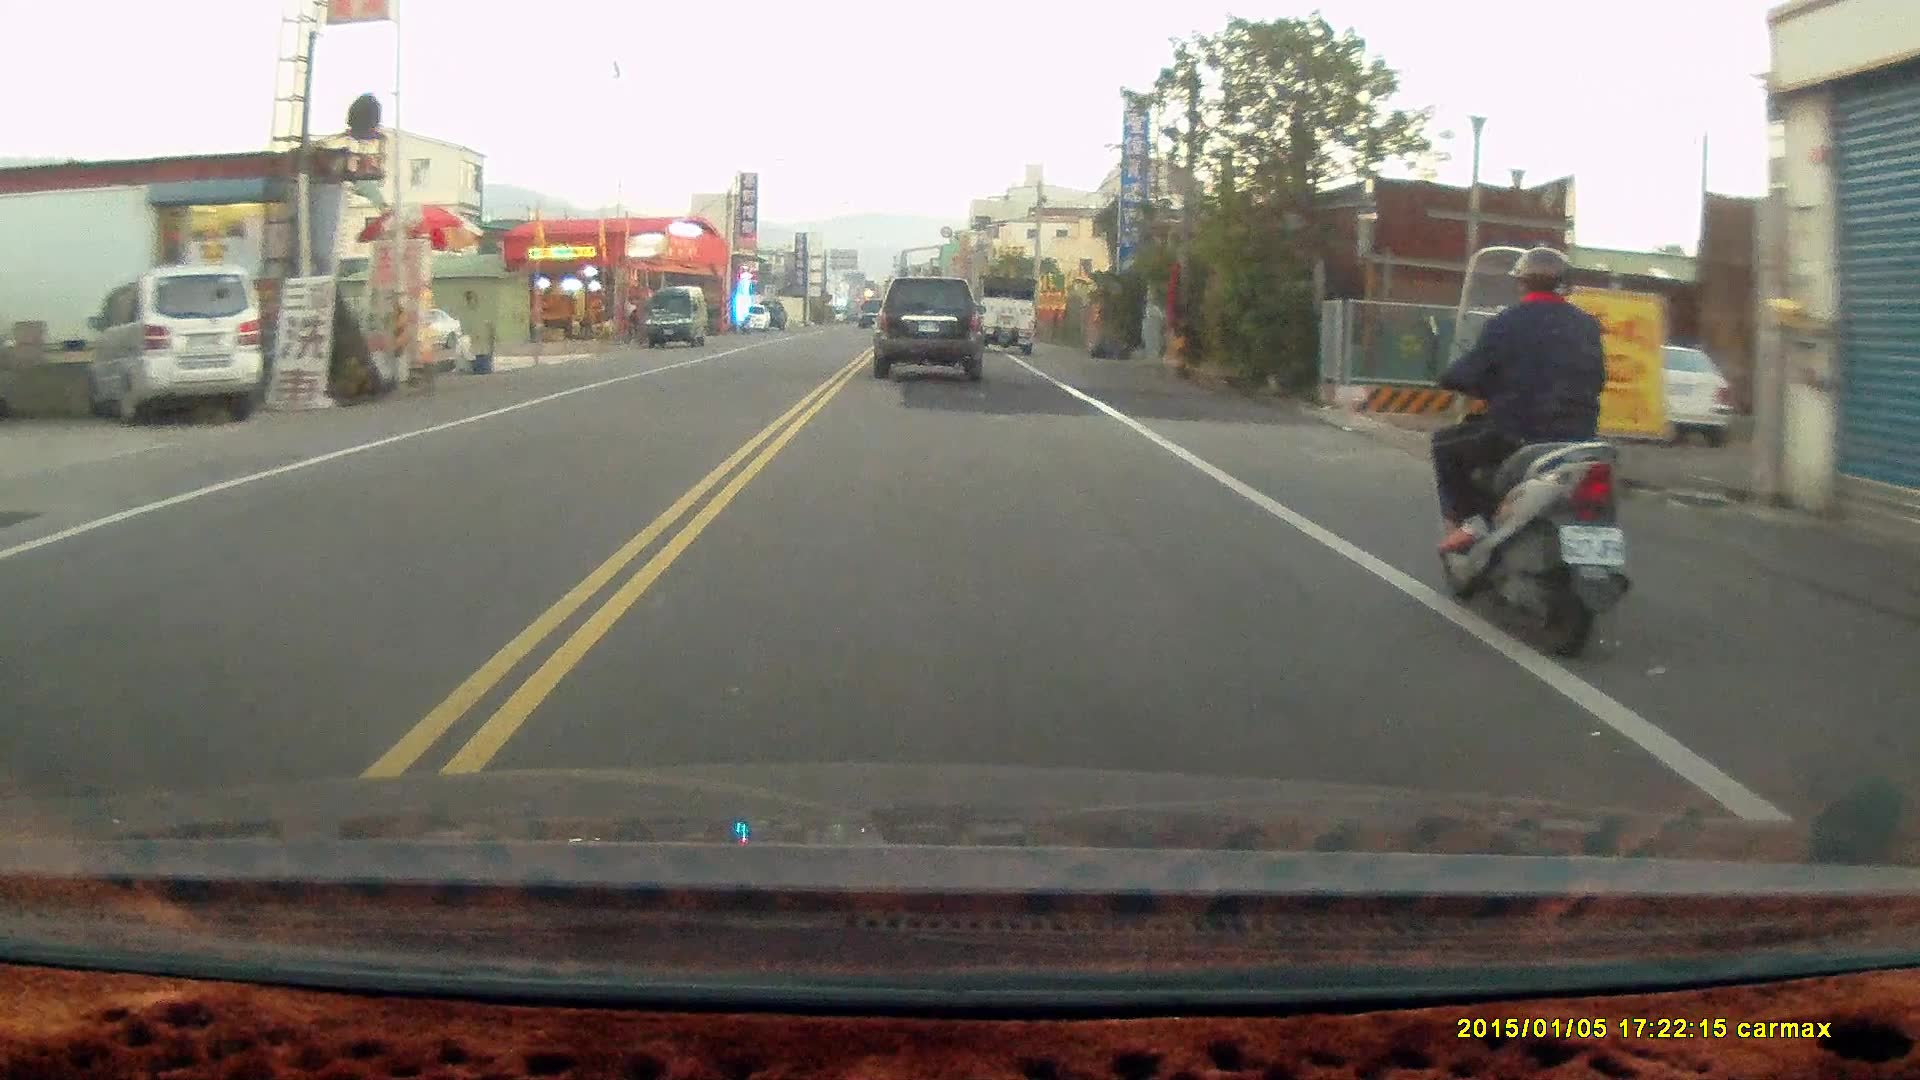rider: (1422, 244, 1631, 667)
vehicle: (92, 268, 263, 424), (875, 277, 991, 382), (976, 276, 1038, 358), (645, 287, 708, 352)
